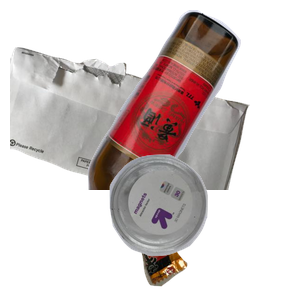glass: (85, 10, 300, 190)
paper: (10, 45, 250, 225)
plastic: (107, 152, 300, 300)
trash: (103, 147, 300, 300)
